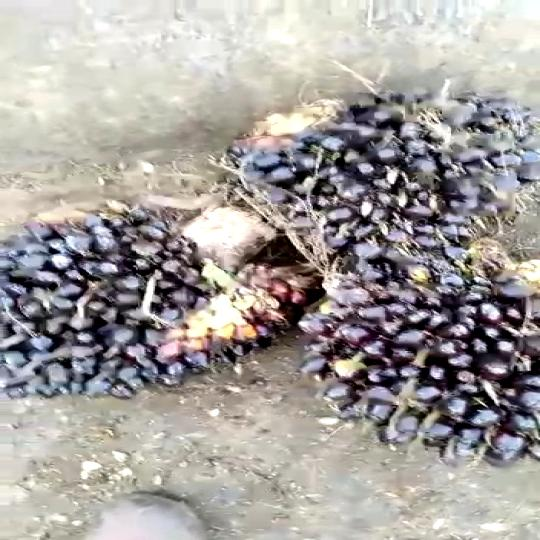mentah: (288, 221, 540, 482), (160, 103, 540, 269), (0, 181, 258, 410)
